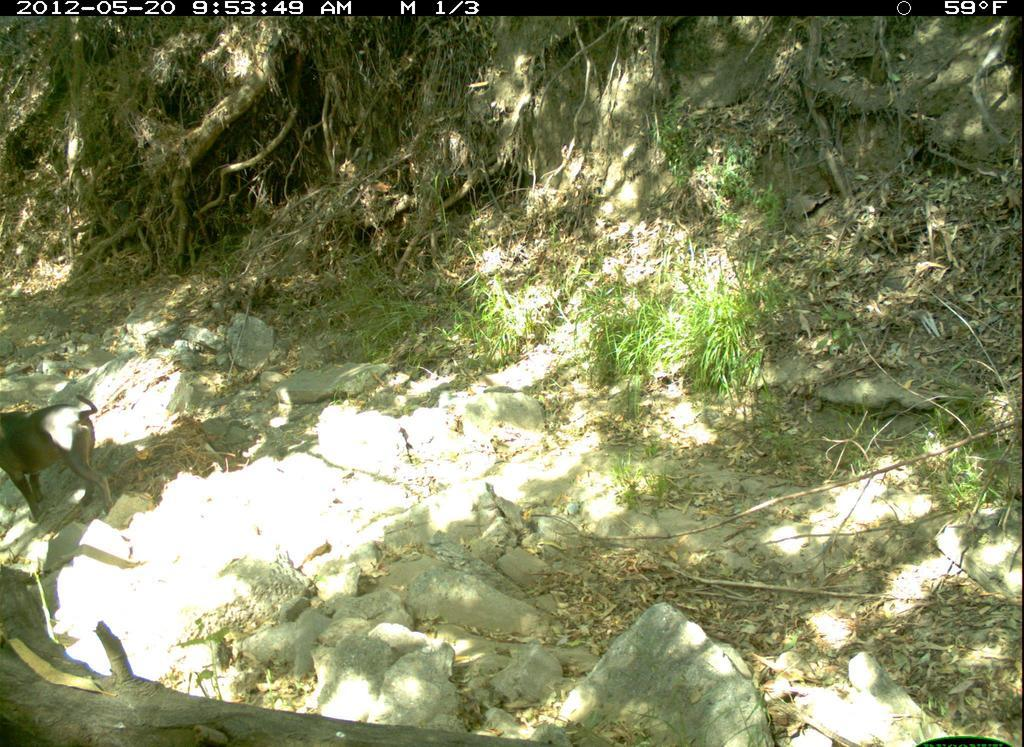dog: (4, 393, 125, 533)
